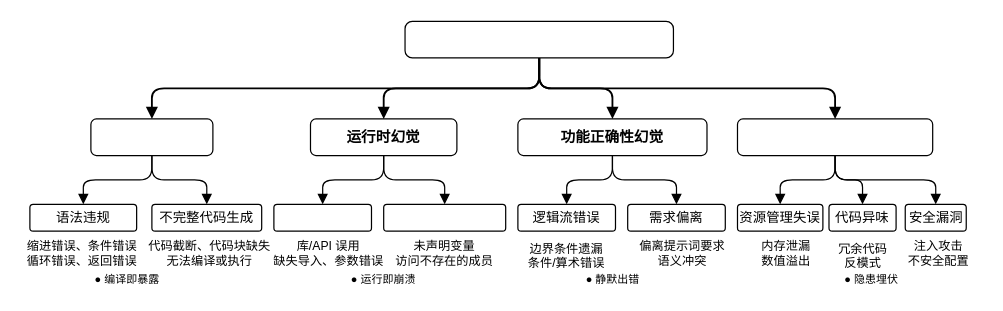
Some shapes in this 1003 by 311 pixel diagram are drawn without their labels. The centre of each missing label's shape, as x and y in pixels:
"API 知识冲突" belongs at (x=322, y=217).
"代码幻觉" belongs at (x=538, y=39).
"代码质量幻觉" belongs at (x=834, y=137).
"无效引用错误" belongs at (x=444, y=217).
"语法幻觉" belongs at (x=151, y=137).
